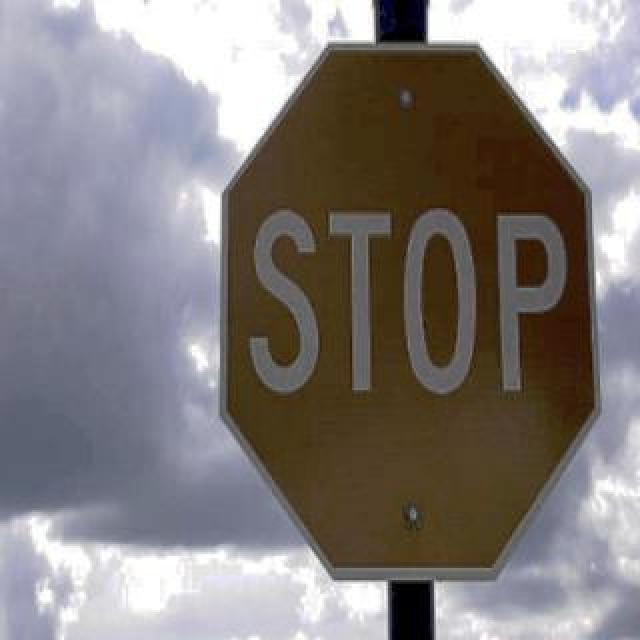stop: (218, 36, 602, 584)
